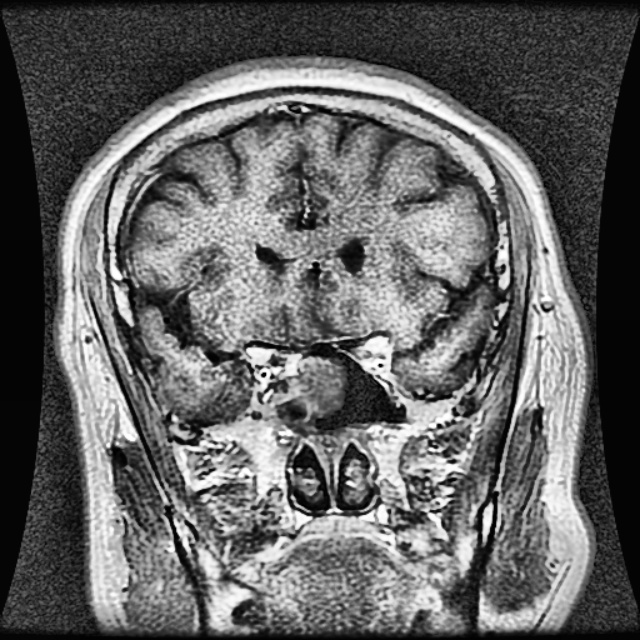Pituitary: (285, 355, 342, 413)
